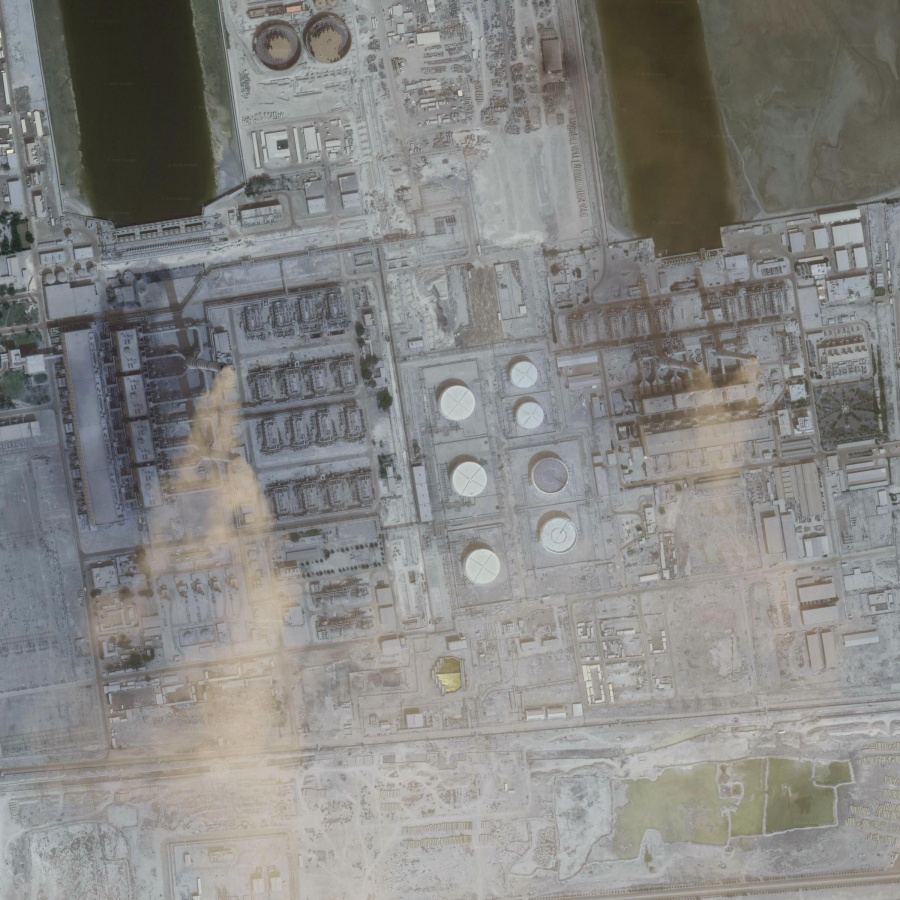PowerPlant: (63, 221, 593, 697)
